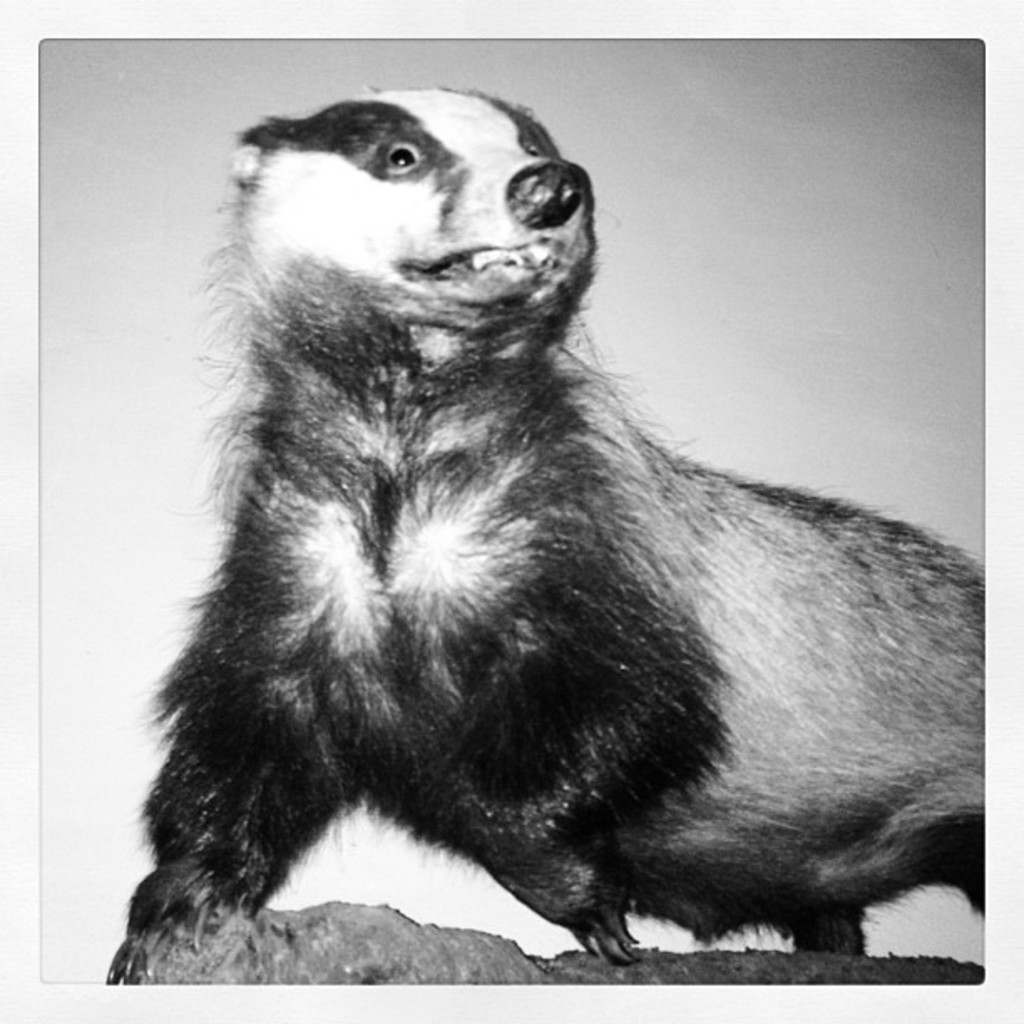face: (323, 103, 536, 347)
